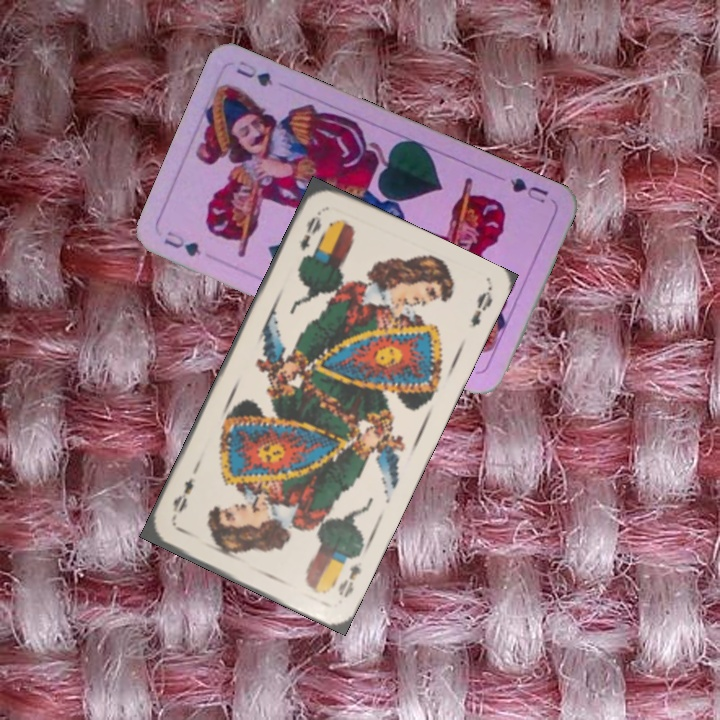EO: (333, 557, 365, 601), (295, 213, 324, 253)
GU: (506, 174, 551, 206), (159, 227, 204, 259)
